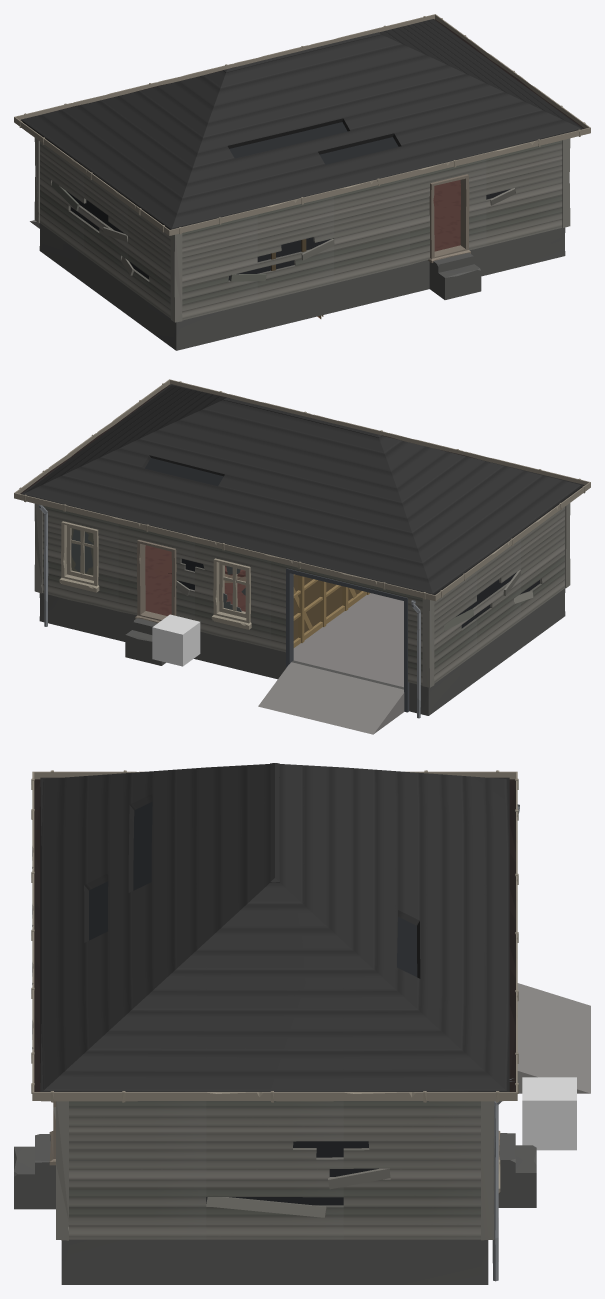
File: mesure.glb
3 views of the same model, one above another, from view 1: azimuth 30°, elevation 25°; view 2: azimuth 150°, elevation 25°; view 3: azimuth 270°, elevation 25° (orthographic). The views are drawn at different scales.
Parts seen in each view (by area): view 1: SM_Bld_House_02__1_; view 2: SM_Bld_House_02__1_, Cube, SM_Bld_House_02_Glass_01_1; view 3: SM_Bld_House_02__1_, Cube.
Boxes of the visible parts, x1=… form: SM_Bld_House_02__1_: x1=14, y1=14, x2=590, y2=350; SM_Bld_House_02__1_: x1=14, y1=379, x2=590, y2=734; Cube: x1=152, y1=614, x2=200, y2=666; SM_Bld_House_02_Glass_01_1: x1=71, y1=528, x2=245, y2=611; SM_Bld_House_02__1_: x1=14, y1=763, x2=590, y2=1284; Cube: x1=522, y1=1077, x2=576, y2=1150.
Bounding box in the file's own units: 13.87 × 6.59 × 10.5.
2 materials, 2 textured.
